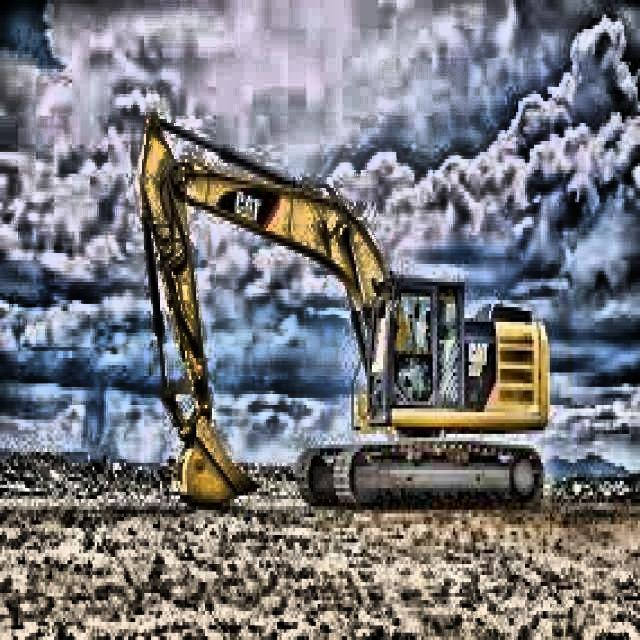excavator: (137, 108, 556, 518)
